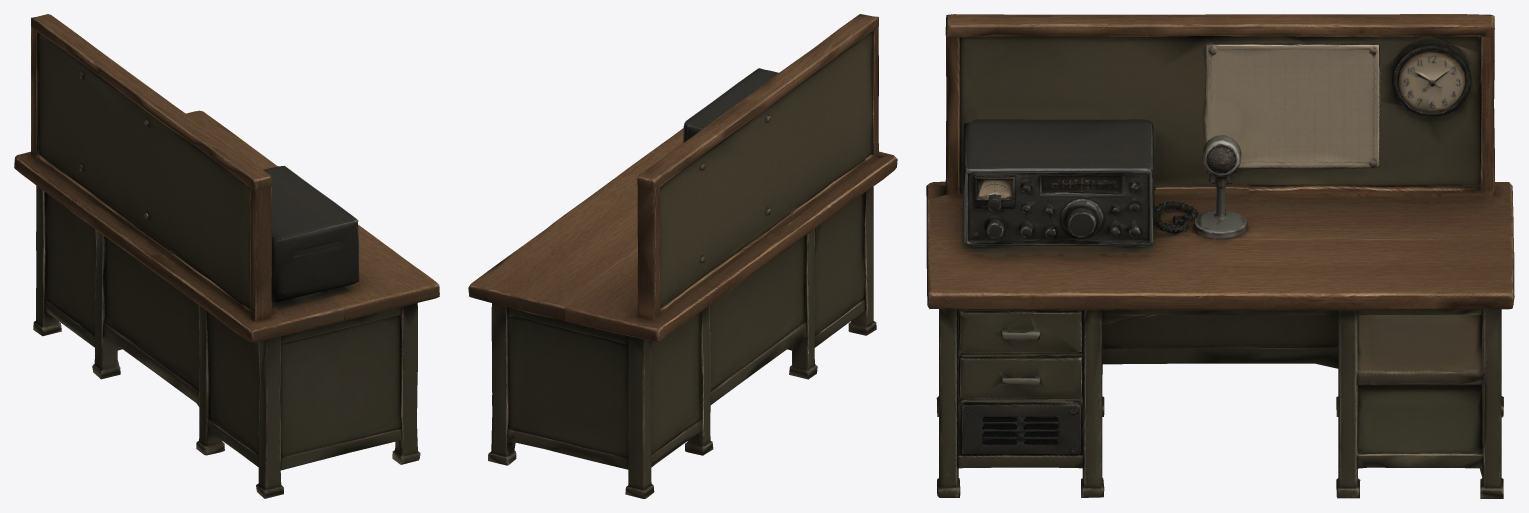
File: radio.fbx
3 views of the same model, side by side, from view 1: azimuth 30°, elevation 25°; view 2: azimuth 150°, elevation 25°; view 3: azimuth 270°, elevation 25° (orthographic). The views are drawn at different scales.
Parts seen in each view (by area): view 1: tripo_node_adf288e3; view 2: tripo_node_adf288e3; view 3: tripo_node_adf288e3.
Part boxes in pixels (<box>): tripo_node_adf288e3: <box>14,14,439,498</box>; tripo_node_adf288e3: <box>468,14,897,498</box>; tripo_node_adf288e3: <box>926,14,1514,498</box>.
Size of the model in its own units: 0.4496 by 0.7147 by 0.9813.
